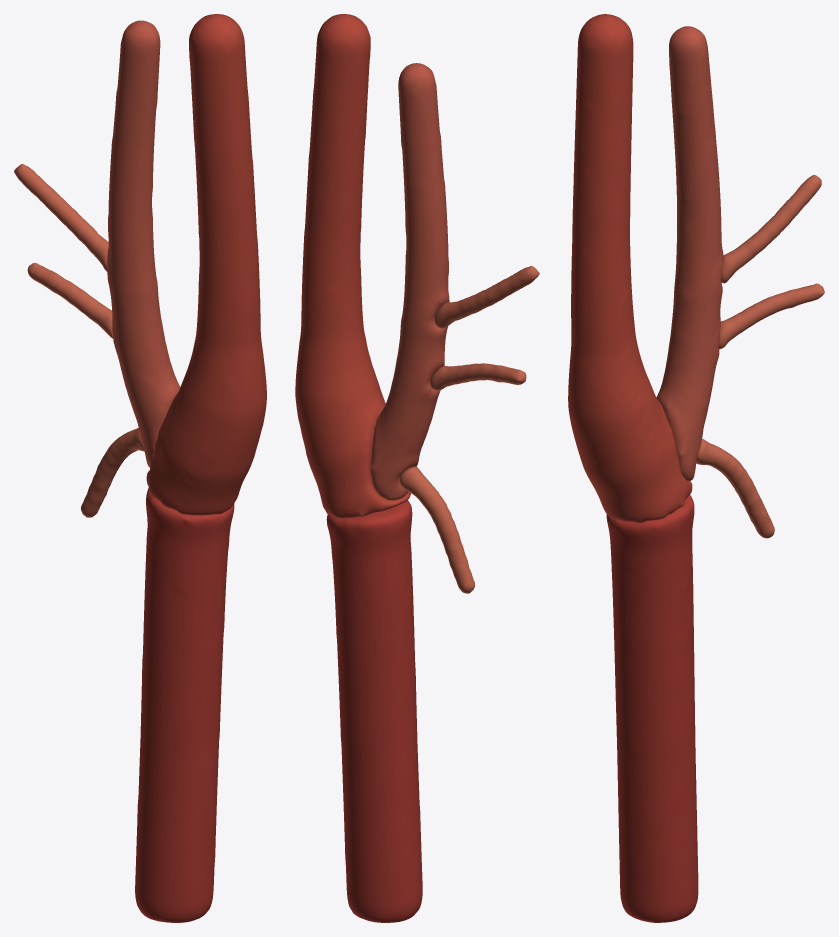
The model's file is carotid_normal.glb.
3 renders of one model, left to right at view 1: azimuth 30°, elevation 25°; view 2: azimuth 210°, elevation 25°; view 3: azimuth 270°, elevation 25°, orthographic. The views are drawn at different scales.
Parts seen in each view (by area): view 1: internal_carotid, common_carotid, external_carotid, eca_branches; view 2: common_carotid, internal_carotid, external_carotid, eca_branches; view 3: internal_carotid, common_carotid, external_carotid, eca_branches.
Part boxes in pixels (x1,y1,x2,y2): internal_carotid: (146, 14, 266, 515); common_carotid: (135, 487, 234, 922); external_carotid: (107, 20, 180, 467); eca_branches: (14, 164, 144, 517); common_carotid: (326, 500, 422, 922); internal_carotid: (295, 14, 410, 518); external_carotid: (370, 63, 449, 500); eca_branches: (400, 266, 539, 593); internal_carotid: (568, 14, 692, 523); common_carotid: (606, 495, 698, 922); external_carotid: (656, 26, 723, 481); eca_branches: (696, 175, 824, 538).
Size of the model in its own units: 2.9 by 17.66 by 4.55.
